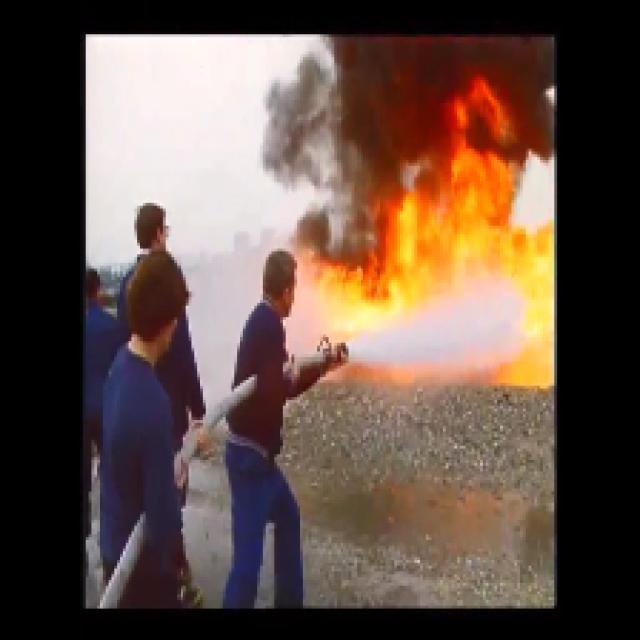Fire: (406, 198, 553, 288), (450, 95, 510, 188)
Smoke: (276, 30, 432, 189), (442, 38, 546, 86), (517, 91, 557, 168)
